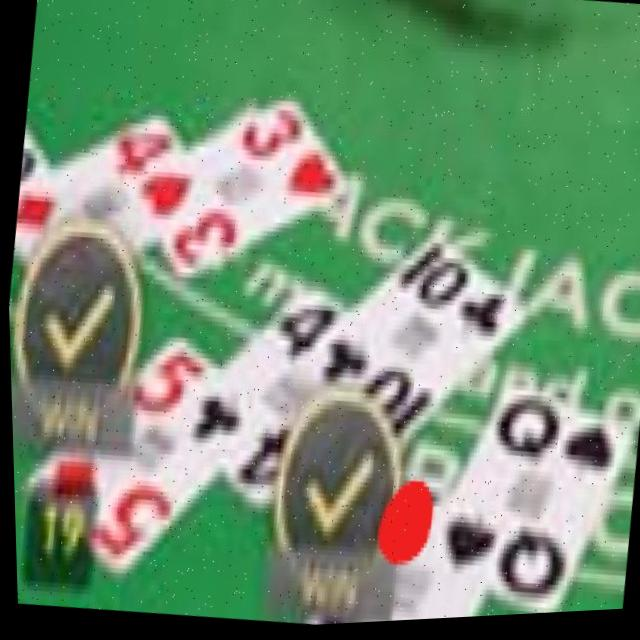Card-10: (296, 235, 525, 459)
Card-3: (130, 95, 345, 279)
Card-4: (174, 288, 340, 515), (12, 109, 185, 307)
Card-5: (22, 333, 217, 577)
Card-Q: (429, 387, 630, 619)
